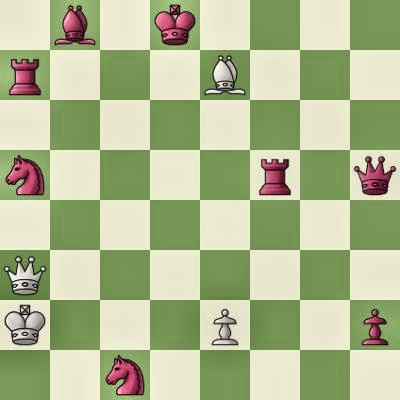black-bishop: (50, 0, 100, 50)
black-king: (150, 0, 200, 50)
black-knight: (0, 150, 50, 200), (100, 350, 150, 400)
black-pawn: (350, 300, 400, 350)
black-queen: (350, 150, 400, 200)
black-rook: (0, 50, 50, 100), (250, 150, 300, 200)
white-bishop: (200, 50, 250, 100)
white-king: (0, 300, 50, 350)
white-pawn: (200, 300, 250, 350)
white-queen: (0, 250, 50, 300)
